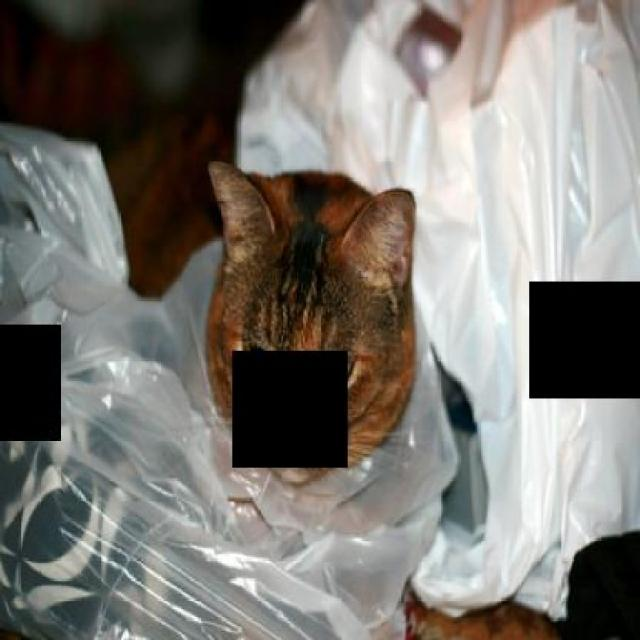plastic bag: (232, 0, 638, 618), (0, 115, 460, 636)
